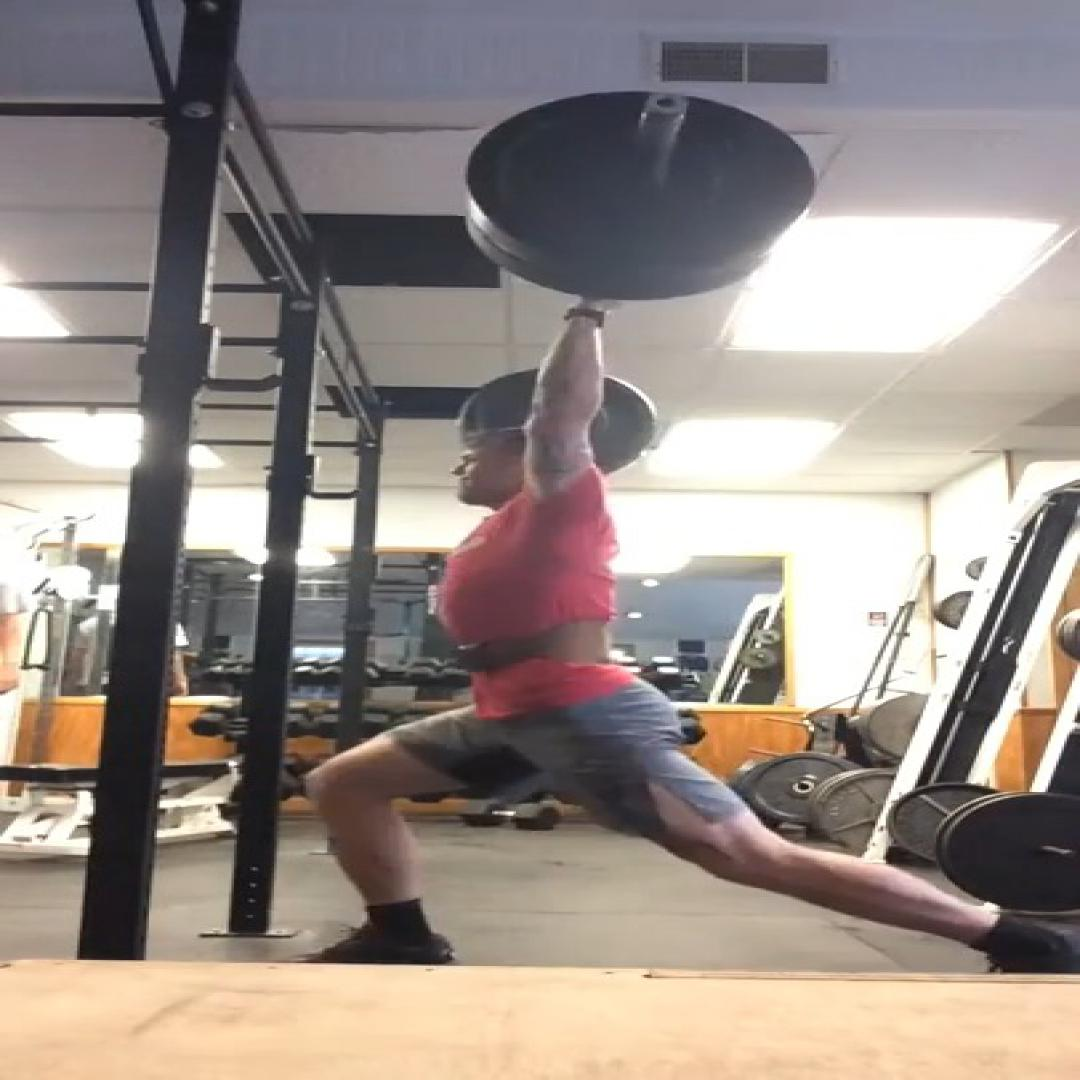Bar: (644, 92, 692, 116)
Barbell: (466, 92, 814, 264)
